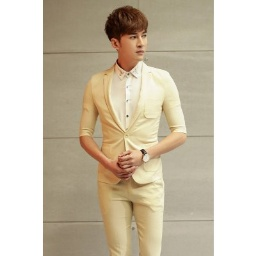face: (105, 6, 147, 63)
